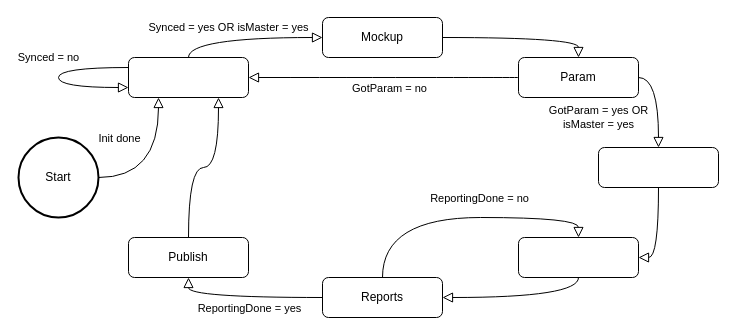
Some shapes in this 736 by 335 pixel diagram are drawn without their labels. The shapes that lost their labels are listed below. From the top down, each one's centre as x and y in pixels, then its label:
the point at 188,77: Discovery
the point at 658,167: Packets
the point at 578,257: Reports Req
